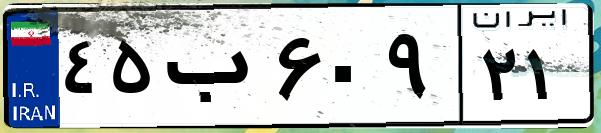0: (330, 28, 385, 110)
1: (525, 38, 570, 115)
2: (475, 38, 525, 113)
4: (57, 26, 110, 100)
5: (110, 28, 158, 98)
6: (270, 28, 330, 110)
9: (385, 28, 445, 110)
ب: (158, 20, 270, 120)
